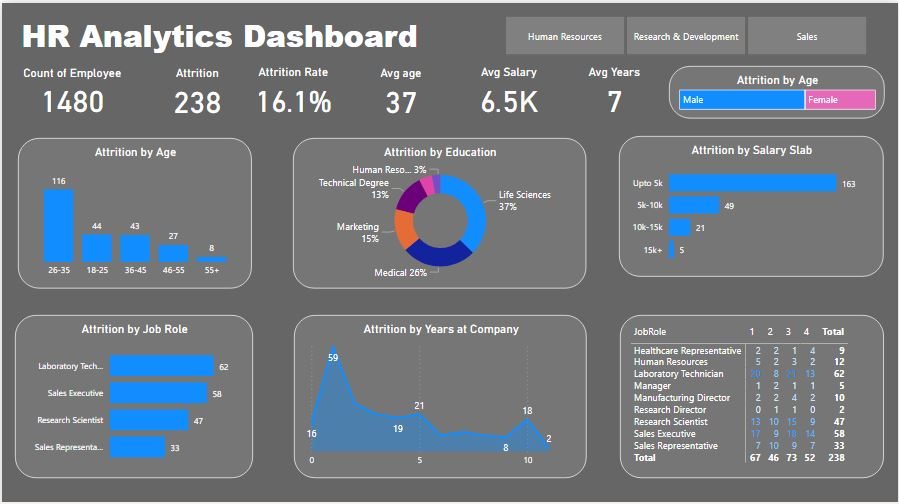

The page's visual inventory and layout, read from the dashboard file:
{"tool":"powerbi","page":{"name":"Page 1","canvas":[1280,720],"ordinal":0},"visuals":[{"type":"card","title":"Count of Employee","fields":{"Values":["CountNonNull(HR_Analytics.EmpID)"]},"box":[23.4,89.7,155,75],"z":0},{"type":"card","title":"Attrition","fields":{"Values":["Sum(HR_Analytics.AttritionCount)"]},"box":[202.1,89.7,155,76.2],"z":1000},{"type":"card","title":"Attrition Rate","fields":{"Values":["HR_Analytics.AttritionRate"]},"box":[338.4,88.4,155,76.2],"z":2000},{"type":"card","title":"Avg age","fields":{"Values":["Avg(HR_Analytics.Age)"]},"box":[493.4,89.7,153.8,76.2],"z":3000},{"type":"card","title":"Avg Years","fields":{"Values":["Avg(HR_Analytics.YearsAtCompany)"]},"box":[797.1,88.4,155,76.2],"z":4000},{"type":"card","title":"Avg Salary","fields":{"Values":["Avg(HR_Analytics.MonthlyIncome)"]},"box":[647.1,88.4,153.8,76.2],"z":5000},{"type":"donutChart","title":"Attrition by Education","fields":{"Category":["HR_Analytics.EducationField"],"Y":["Sum(HR_Analytics.AttritionCount)"]},"box":[415.9,193,418.8,215],"z":6000},{"type":"columnChart","title":"Attrition by Age","fields":{"Category":["HR_Analytics.AgeGroup"],"Y":["Sum(HR_Analytics.AttritionCount)"]},"box":[23.4,193,333.8,215],"z":7000},{"type":"pivotTable","fields":{"Rows":["HR_Analytics.JobRole"],"Columns":["HR_Analytics.JobSatisfaction"],"Values":["Sum(HR_Analytics.AttritionCount)"]},"box":[883.3,445,376.7,233.3],"z":8000},{"type":"barChart","title":"Attrition by Job Role","fields":{"Y":["Sum(HR_Analytics.AttritionCount)"],"Category":["HR_Analytics.JobRole"]},"box":[18.3,445,340,233.3],"z":9000},{"type":"areaChart","title":"Attrition by Years at Company","fields":{"Y":["Sum(HR_Analytics.AttritionCount)"],"Category":["HR_Analytics.YearsAtCompany"]},"box":[416.7,445,418.3,233.3],"z":10000},{"type":"treemap","title":"Attrition by Age","fields":{"Group":["HR_Analytics.Gender"],"Values":["Sum(HR_Analytics.AttritionCount)"]},"box":[953,89.7,308.3,75],"z":11000},{"type":"slicer","fields":{"Values":["HR_Analytics.Department"]},"box":[693.3,11.7,566.7,70],"z":12000},{"type":"textbox","box":[23.3,11.7,591.7,70],"z":13000},{"type":"barChart","title":"Attrition by Salary Slab","fields":{"Category":["HR_Analytics.SalarySlab"],"Y":["Sum(HR_Analytics.AttritionCount)"]},"box":[882.1,190.5,377.5,201.2],"z":14000}]}

Visuals, with their boxes in screenshot pixels (x1, y1, x2, y2), scaled from the page's 1280x720 canvas onto the 899x504 screenshot:
"Count of Employee" card: <box>16,63,125,115</box>
"Attrition" card: <box>142,63,251,116</box>
"Attrition Rate" card: <box>238,62,347,115</box>
"Avg age" card: <box>347,63,455,116</box>
"Avg Years" card: <box>560,62,669,115</box>
"Avg Salary" card: <box>454,62,563,115</box>
"Attrition by Education" donutChart: <box>292,135,586,286</box>
"Attrition by Age" columnChart: <box>16,135,251,286</box>
pivotTable - HR_Analytics.JobRole x HR_Analytics.JobSatisfaction: <box>620,312,885,475</box>
"Attrition by Job Role" barChart: <box>13,312,252,475</box>
"Attrition by Years at Company" areaChart: <box>293,312,586,475</box>
"Attrition by Age" treemap: <box>669,63,886,115</box>
slicer - HR_Analytics.Department: <box>487,8,885,57</box>
textbox: <box>16,8,432,57</box>
"Attrition by Salary Slab" barChart: <box>620,133,885,274</box>
